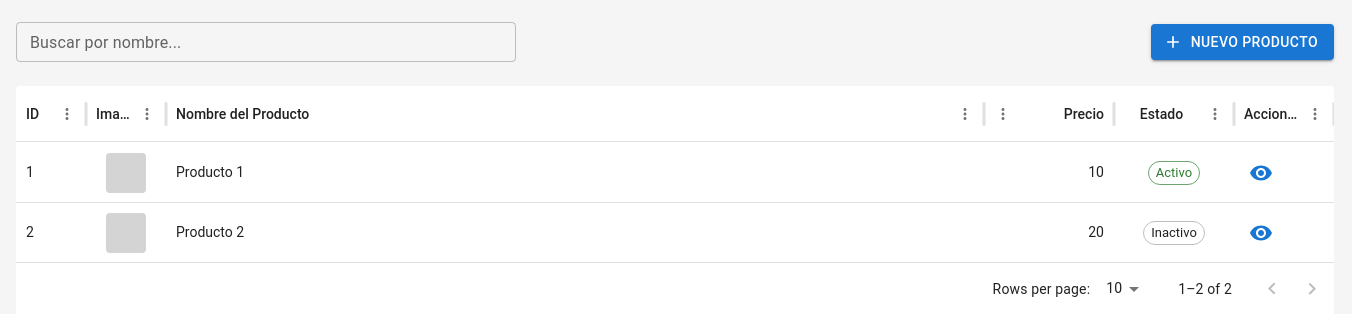
Test case: ObjectList Component › debería renderizar la lista y filtrar productos
Expected: the text "Producto 1" is shown, [176,164,244,180]
Expected: the text "Producto 2" is shown, [166,202,984,262]
Type "Producto 1" into the field labelled "Buscar por nombre..." at (266, 42), box [16,22,516,62]
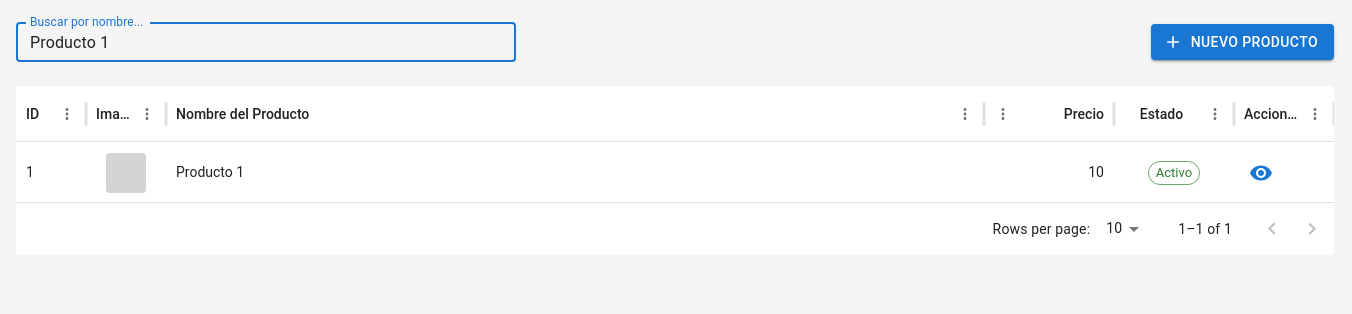
Expected: the text "Producto 1" is shown, [176,164,244,180]
Expected: the text "Producto 2" is gone
